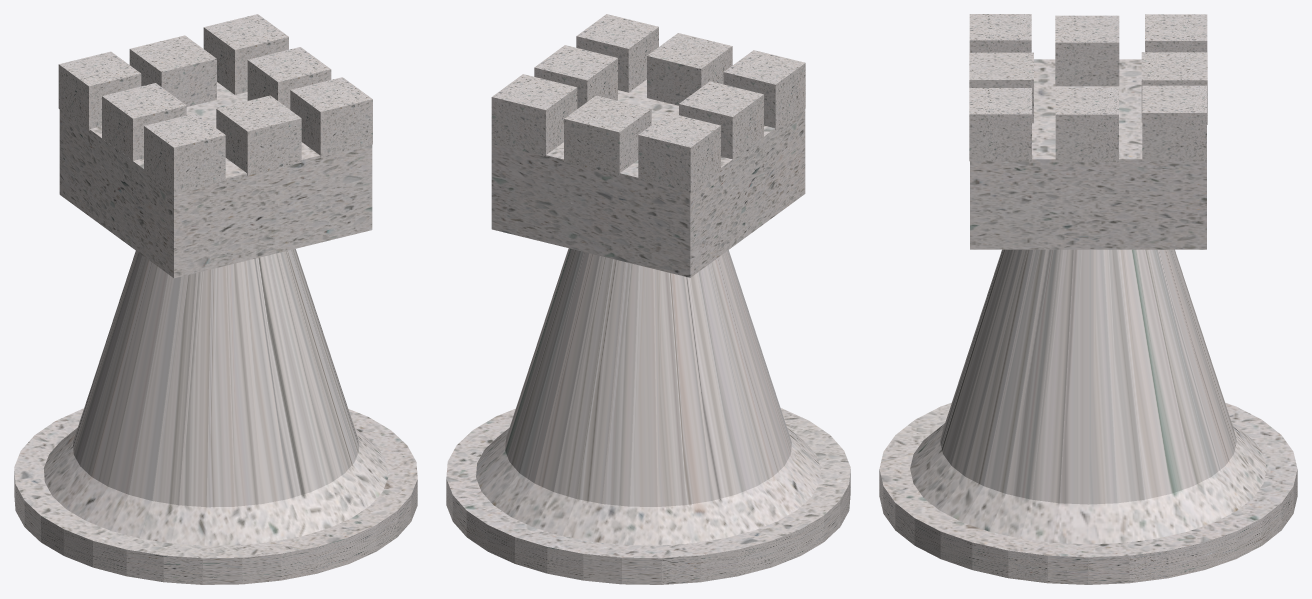
File: WhiteRook.fbx
The picture shows the model from 3 angles, left to right: view 1: azimuth 30°, elevation 25°; view 2: azimuth 150°, elevation 25°; view 3: azimuth 270°, elevation 25°; orthographic projection. The views are drawn at different scales.
Parts seen in each view (by area): view 1: Cylinder; view 2: Cylinder; view 3: Cylinder.
Part boxes in pixels (x1,y1,x2,y2): Cylinder: (14,14,417,584); Cylinder: (446,14,850,584); Cylinder: (879,14,1297,584).
Bounding box in the file's own units: 200 × 229 × 200.
